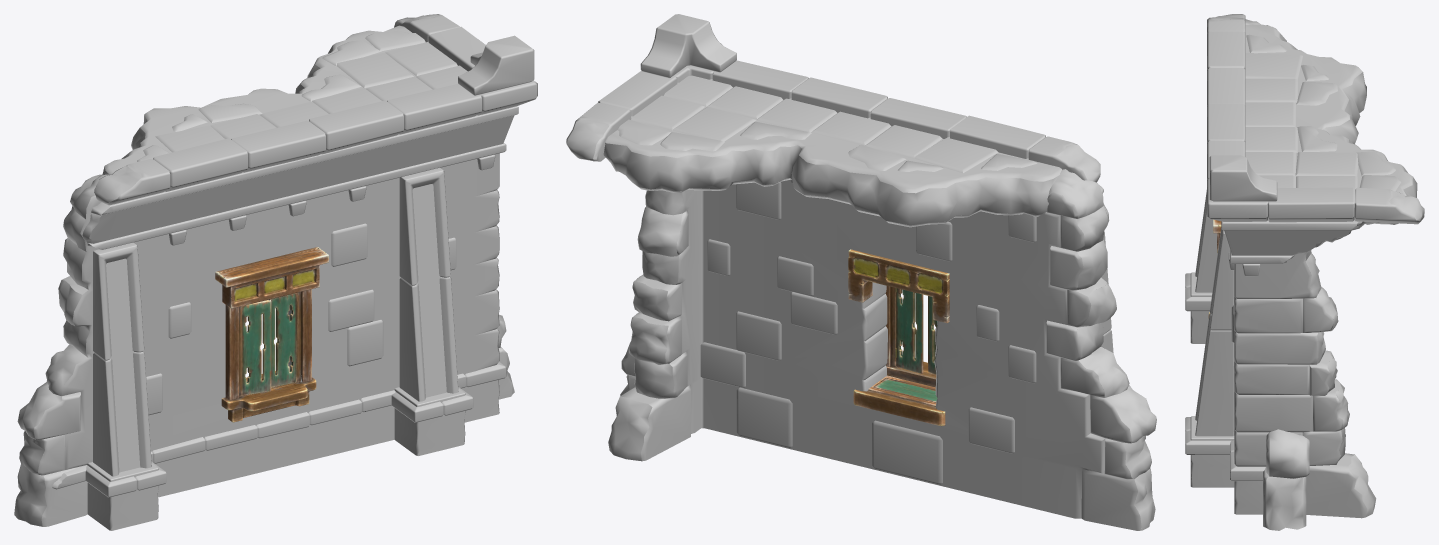
The picture shows the model from 3 angles, left to right: view 1: azimuth 30°, elevation 25°; view 2: azimuth 150°, elevation 25°; view 3: azimuth 270°, elevation 25°; orthographic projection. The views are drawn at different scales.
Parts seen in each view (by area): view 1: SM_Menaphite_Ruins_01_LOD0; view 2: SM_Menaphite_Ruins_01_LOD0; view 3: SM_Menaphite_Ruins_01_LOD0.
Part boxes in pixels (left/top/right/bottom): SM_Menaphite_Ruins_01_LOD0: left=14, top=14, right=537, bottom=530; SM_Menaphite_Ruins_01_LOD0: left=566, top=14, right=1156, bottom=530; SM_Menaphite_Ruins_01_LOD0: left=1185, top=14, right=1424, bottom=530.
Bounding box in the file's own units: 12.96 × 9.04 × 5.54.
